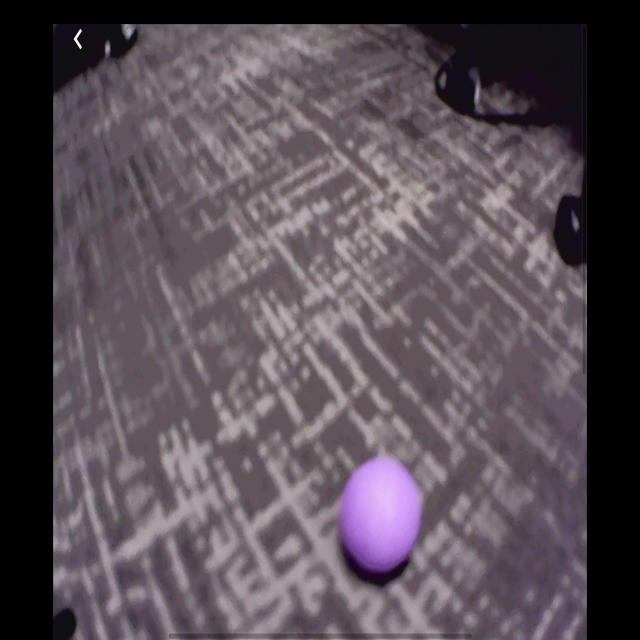ball: (338, 455, 424, 579)
